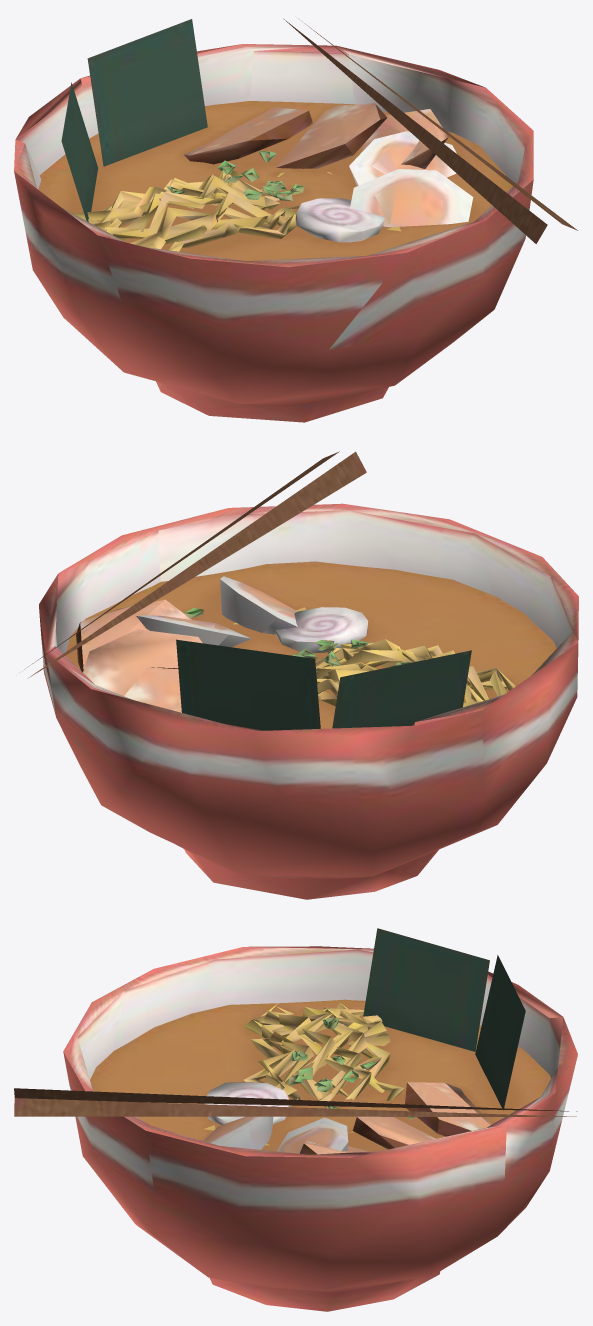
The model's file is food-ramen-bowl.glb.
The picture shows the model from 3 angles, top to bottom: view 1: azimuth 30°, elevation 25°; view 2: azimuth 150°, elevation 25°; view 3: azimuth 270°, elevation 25°; orthographic projection. The views are drawn at different scales.
Visible parts, largest first — view 1: ramen-bowl_body; view 2: ramen-bowl_body; view 3: ramen-bowl_body.
Part boxes in pixels (bbox=[...]): ramen-bowl_body: bbox=[14, 18, 577, 422]; ramen-bowl_body: bbox=[24, 451, 578, 899]; ramen-bowl_body: bbox=[14, 928, 577, 1311].
Size of the model in its own units: 3.8 by 2.14 by 4.2.
1 material, 1 textured.
